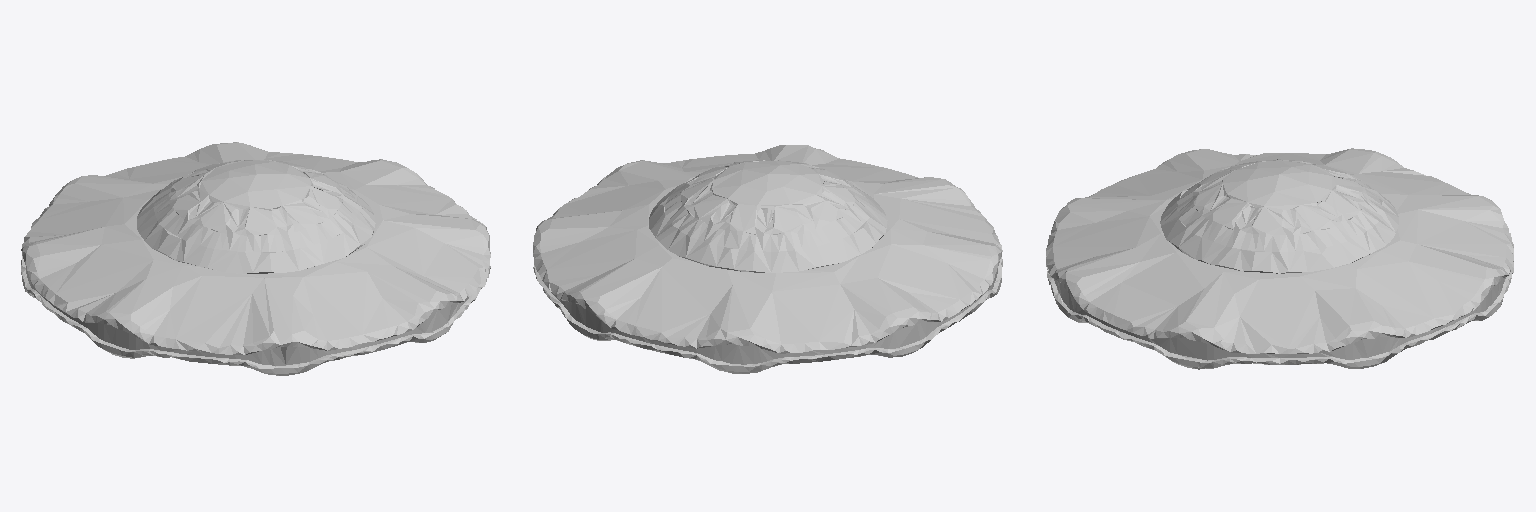
File: frame_060.obj
3 views of the same model, side by side, from view 1: azimuth 30°, elevation 25°; view 2: azimuth 150°, elevation 25°; view 3: azimuth 270°, elevation 25° (orthographic).
Visible parts, largest first — view 1: 13884_UFO_Saucer_v1_l2; view 2: 13884_UFO_Saucer_v1_l2; view 3: 13884_UFO_Saucer_v1_l2.
Boxes of the visible parts, box(x1,y1,x2,y2) form: 13884_UFO_Saucer_v1_l2: box(21, 142, 490, 375); 13884_UFO_Saucer_v1_l2: box(533, 145, 1002, 373); 13884_UFO_Saucer_v1_l2: box(1046, 148, 1513, 369).
Size of the model in its own units: 12.69 by 4.88 by 12.7.